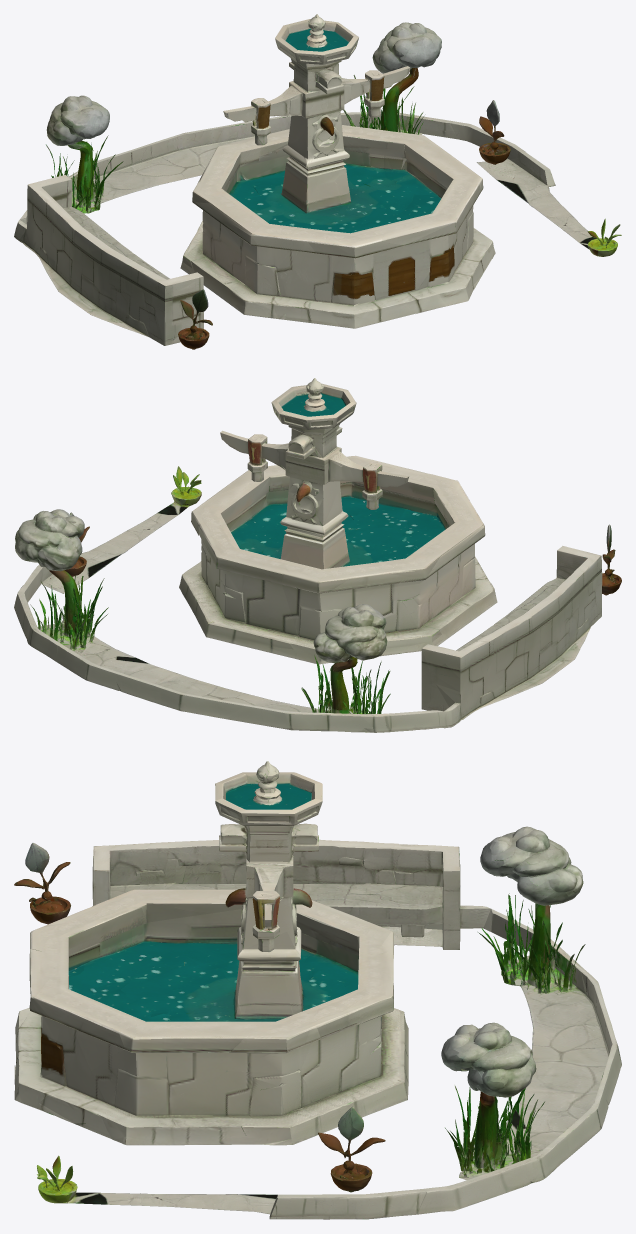
The picture shows the model from 3 angles, top to bottom: view 1: azimuth 30°, elevation 25°; view 2: azimuth 150°, elevation 25°; view 3: azimuth 270°, elevation 25°; orthographic projection. The views are drawn at different scales.
Size of the model in its own units: 1.9 by 0.8681 by 1.57.
1 material, 1 textured.
